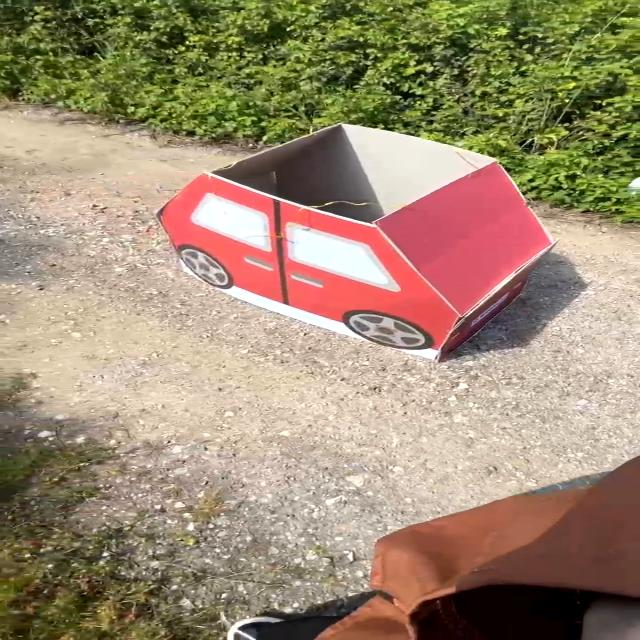red_car: (82, 103, 583, 372)
